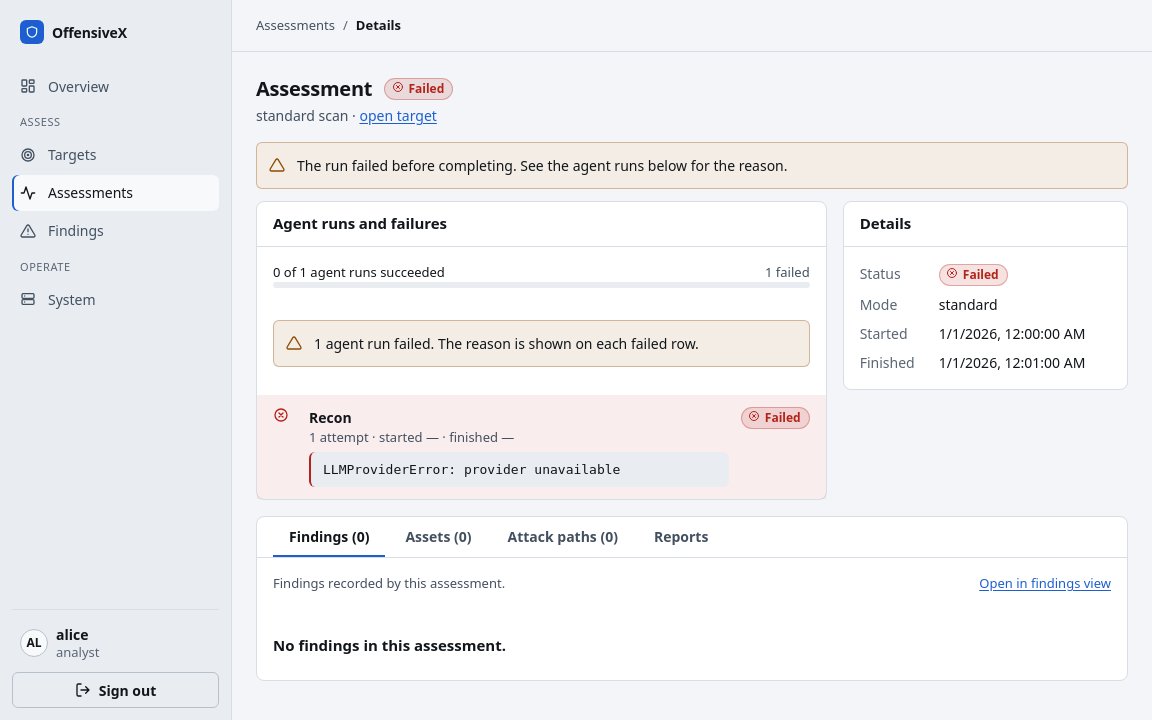
it: assessments › shows progress, status with text, and switches result tabs
Check: the text "failed" is shown, box [384,78,453,100]
Check: the panel "Findings" is shown, box [257,558,1127,680]
Step 1. Click the tab "Attack paths (0)" → click(563, 537), box [492,517,634,557]
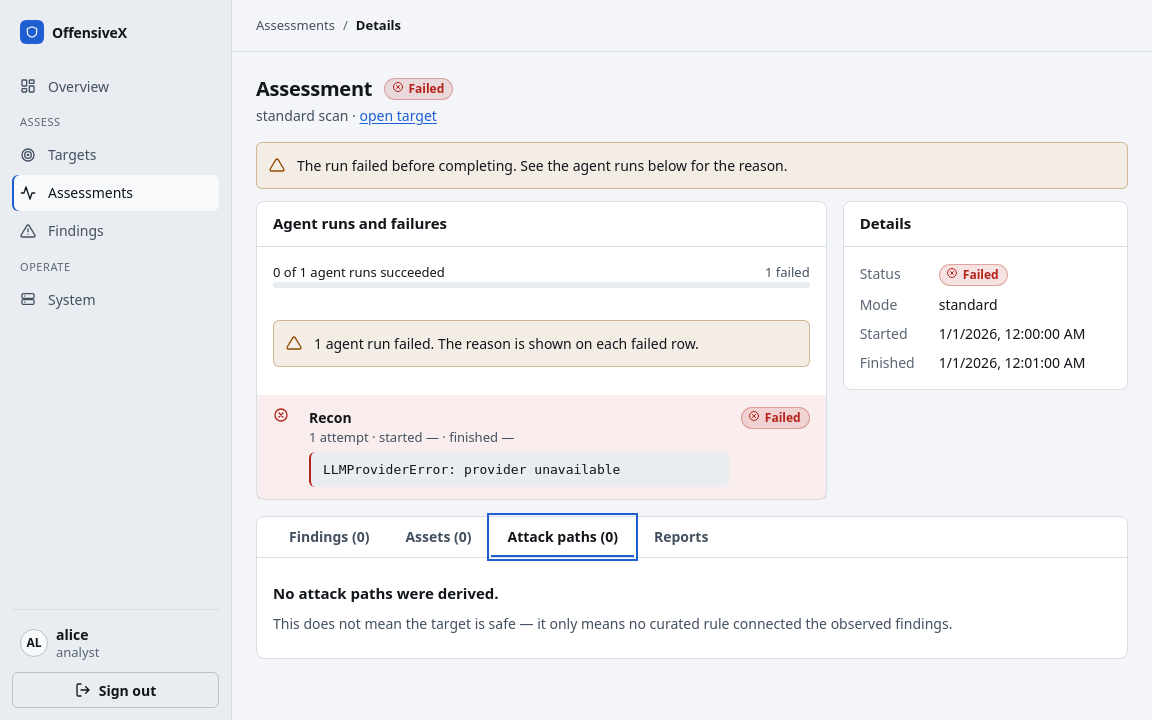
Check: the panel "attack paths" is shown, box [273,583,952,632]
